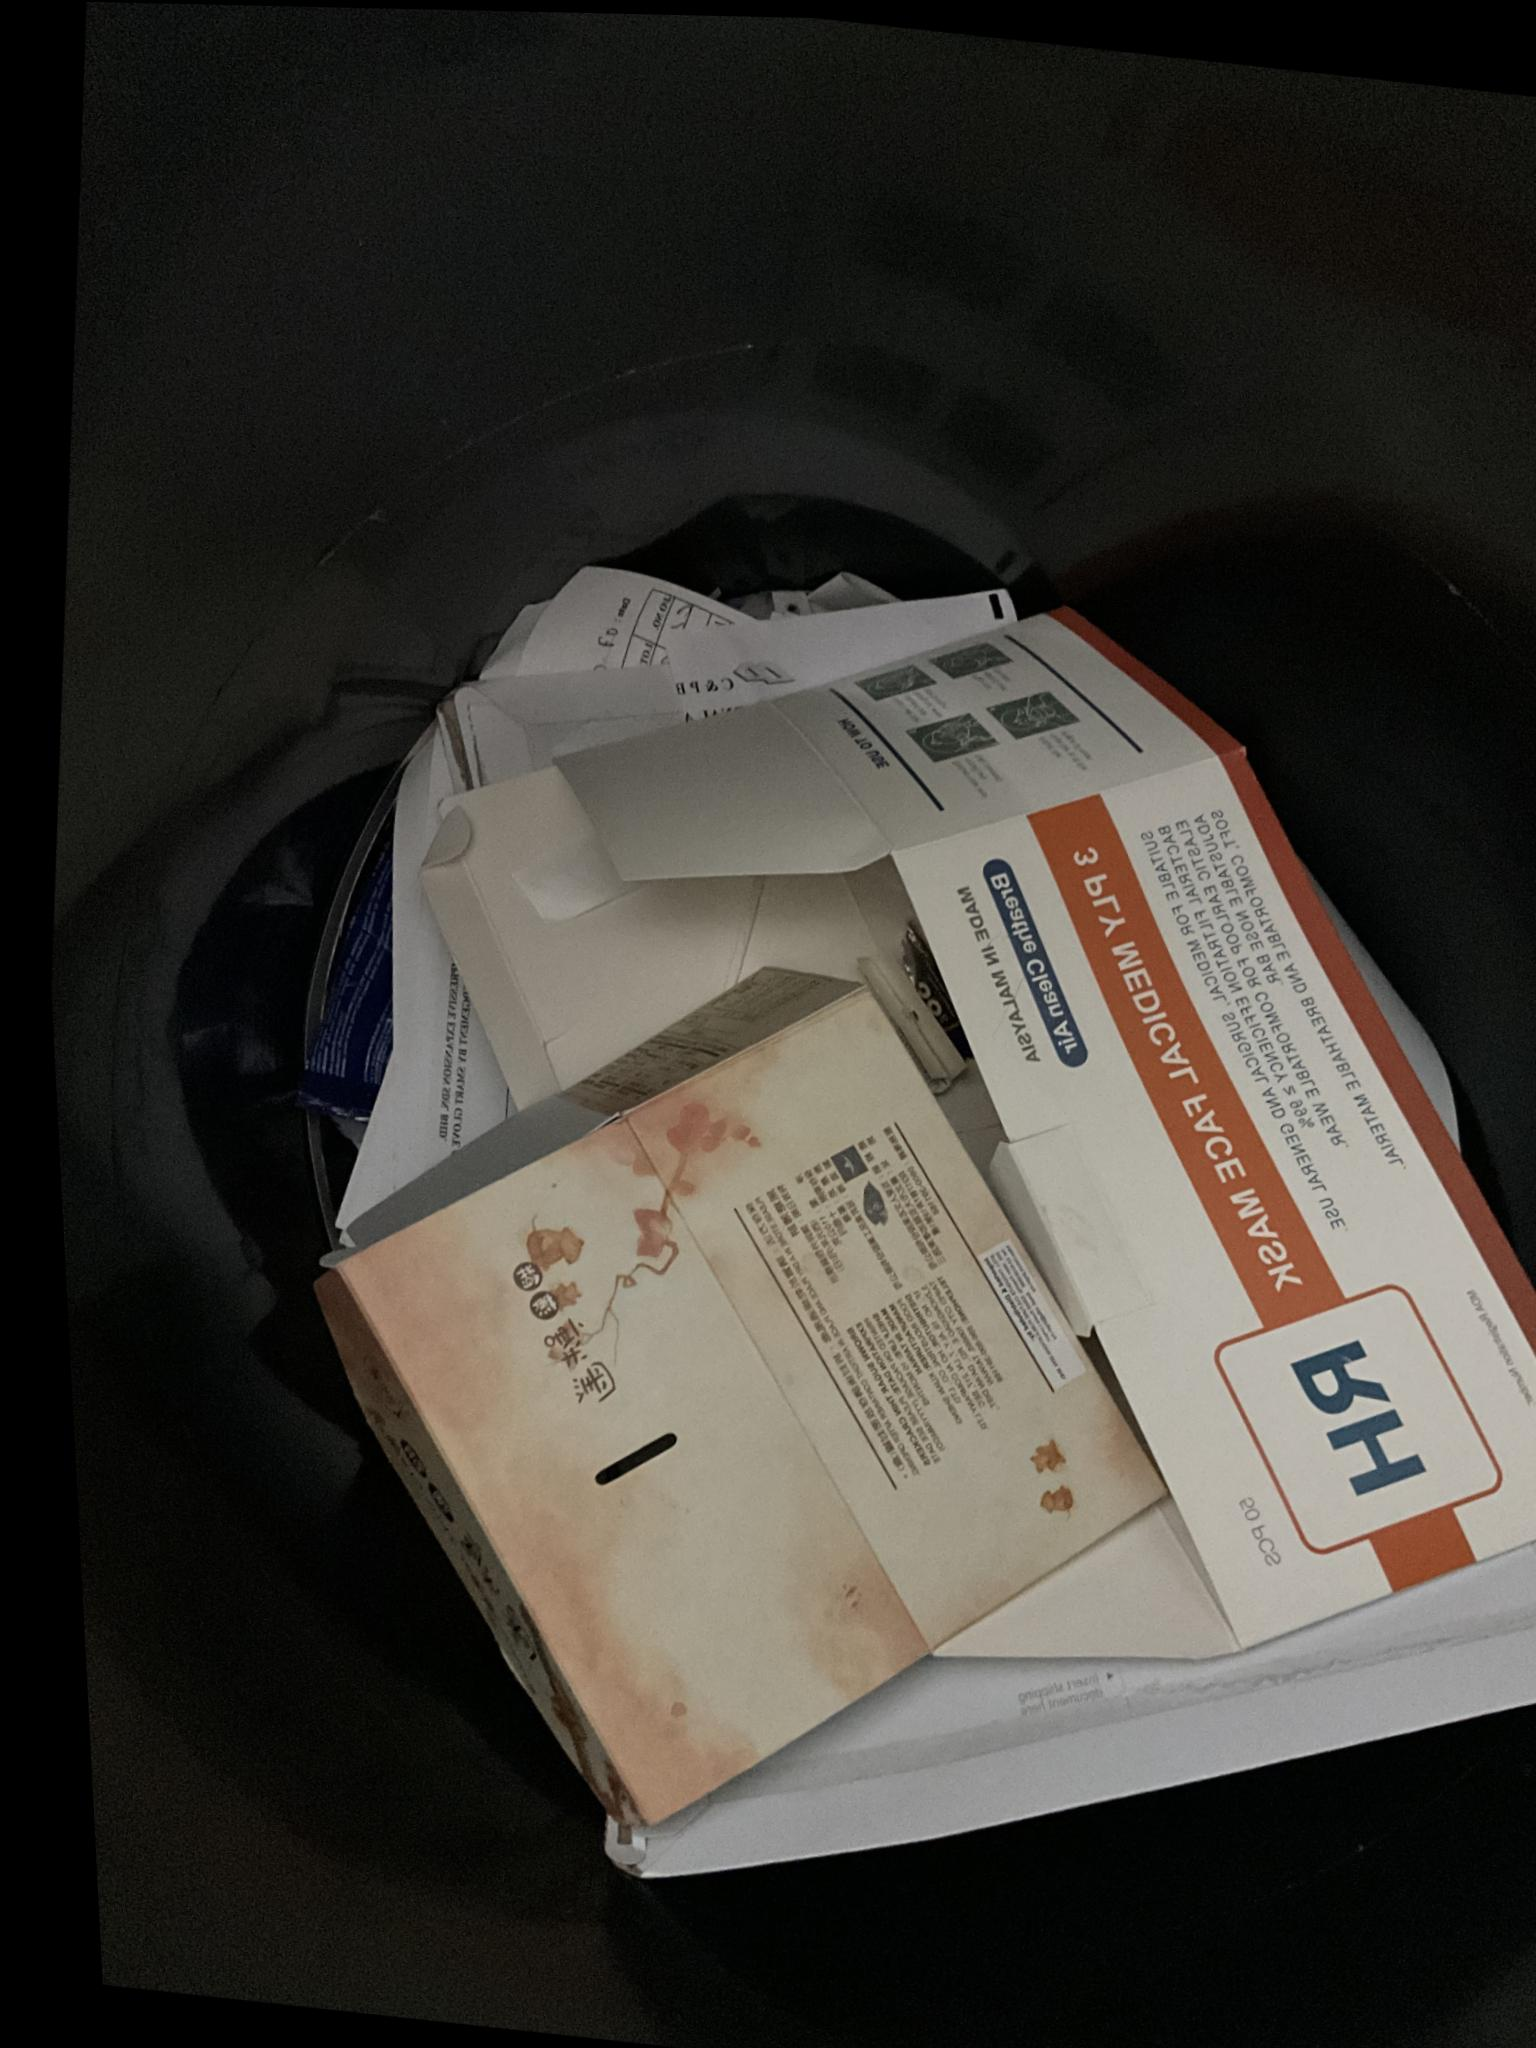cardboard: (347, 529, 1536, 1732), (265, 918, 1192, 1879)
